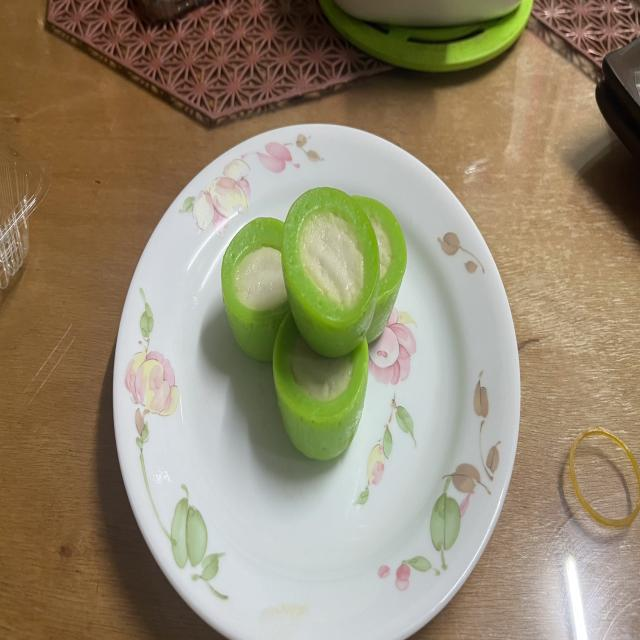nona-manis: (281, 187, 380, 358), (272, 313, 369, 460), (221, 218, 290, 360), (354, 196, 406, 342)
